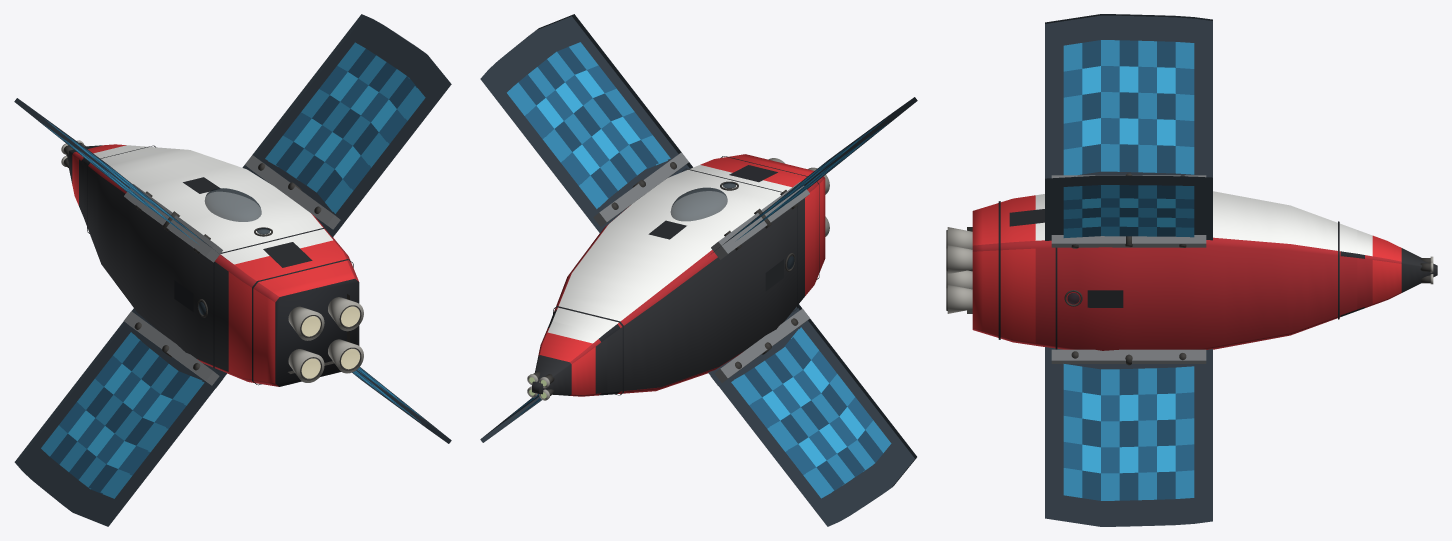
Rendered from Ship_Crosspanel_2.glb.
3 views of the same model, side by side, from view 1: azimuth 30°, elevation 25°; view 2: azimuth 150°, elevation 25°; view 3: azimuth 270°, elevation 25° (orthographic). The views are drawn at different scales.
Parts seen in each view (by area): view 1: Fuselage_SquareBody, SolarPanelWing_TopRightRidge_RectangularPhotovoltaicGrid, SolarPanelWing_LowerLeftRidge_RectangularPhotovoltaicGrid, SolarPanelWing_TopLeftRidge_RectangularPhotovoltaicGrid, SolarPanelWing_TopLeftRidge_RootHingeClamp, Canopy_DorsalLowSquareBubble, SolarPanelWing_LowerLeftRidge_RootHingeClamp, SolarPanelWing_TopRightRidge_RootHingeClamp, EngineEmitter, Nose_SquareTaperedForwardSection, SolarPanelWing_LowerRightRidge_RectangularPhotovoltaicGrid, HullAccessPanel_TopAft (+4 smaller); view 2: Fuselage_SquareBody, SolarPanelWing_TopRightRidge_RectangularPhotovoltaicGrid, SolarPanelWing_LowerLeftRidge_RectangularPhotovoltaicGrid, Nose_SquareTaperedForwardSection, SolarPanelWing_TopLeftRidge_RectangularPhotovoltaicGrid, SolarPanelWing_TopLeftRidge_RootHingeClamp, Canopy_DorsalLowSquareBubble, SolarPanelWing_TopRightRidge_RootHingeClamp, SolarPanelWing_LowerLeftRidge_RootHingeClamp, SolarPanelWing_LowerRightRidge_RectangularPhotovoltaicGrid; view 3: Fuselage_SquareBody, SolarPanelWing_LowerRightRidge_RectangularPhotovoltaicGrid, SolarPanelWing_TopLeftRidge_RectangularPhotovoltaicGrid, SolarPanelWing_TopRightRidge_RectangularPhotovoltaicGrid, Nose_SquareTaperedForwardSection, SolarPanelWing_LowerRightRidge_RootHingeClamp, SolarPanelWing_TopRightRidge_RootHingeClamp, HullAccessPanel_StarboardMid, EngineBell_UpperRight_TaperedSquareClusterNozzle, EngineBell_LowerRight_TaperedSquareClusterNozzle.
Boxes of the visible parts, x1=… form: Fuselage_SquareBody: x1=83, y1=146, x2=359, y2=386; SolarPanelWing_TopRightRidge_RectangularPhotovoltaicGrid: x1=242, y1=14, x2=451, y2=237; SolarPanelWing_LowerLeftRidge_RectangularPhotovoltaicGrid: x1=14, y1=308, x2=226, y2=526; SolarPanelWing_TopLeftRidge_RectangularPhotovoltaicGrid: x1=14, y1=98, x2=225, y2=258; SolarPanelWing_TopLeftRidge_RootHingeClamp: x1=124, y1=184, x2=222, y2=262; Canopy_DorsalLowSquareBubble: x1=205, y1=188, x2=261, y2=221; SolarPanelWing_LowerLeftRidge_RootHingeClamp: x1=124, y1=311, x2=222, y2=387; SolarPanelWing_TopRightRidge_RootHingeClamp: x1=245, y1=155, x2=340, y2=229; EngineEmitter: x1=301, y1=306, x2=359, y2=378; Nose_SquareTaperedForwardSection: x1=66, y1=144, x2=137, y2=216; SolarPanelWing_LowerRightRidge_RectangularPhotovoltaicGrid: x1=352, y1=367, x2=451, y2=443; HullAccessPanel_TopAft: x1=263, y1=242, x2=312, y2=267; Fuselage_SquareBody: x1=550, y1=154, x2=825, y2=394; SolarPanelWing_TopRightRidge_RectangularPhotovoltaicGrid: x1=480, y1=14, x2=692, y2=232; SolarPanelWing_LowerLeftRidge_RectangularPhotovoltaicGrid: x1=708, y1=304, x2=916, y2=526; Nose_SquareTaperedForwardSection: x1=532, y1=321, x2=607, y2=396; SolarPanelWing_TopLeftRidge_RectangularPhotovoltaicGrid: x1=711, y1=97, x2=917, y2=253; SolarPanelWing_TopLeftRidge_RootHingeClamp: x1=711, y1=181, x2=809, y2=259; Canopy_DorsalLowSquareBubble: x1=670, y1=187, x2=727, y2=221; SolarPanelWing_TopRightRidge_RootHingeClamp: x1=593, y1=152, x2=688, y2=226; SolarPanelWing_LowerLeftRidge_RootHingeClamp: x1=711, y1=308, x2=809, y2=385; SolarPanelWing_LowerRightRidge_RectangularPhotovoltaicGrid: x1=480, y1=394, x2=541, y2=442; Fuselage_SquareBody: x1=972, y1=191, x2=1357, y2=350; SolarPanelWing_LowerRightRidge_RectangularPhotovoltaicGrid: x1=1045, y1=347, x2=1212, y2=526; SolarPanelWing_TopLeftRidge_RectangularPhotovoltaicGrid: x1=1045, y1=14, x2=1212, y2=178; SolarPanelWing_TopRightRidge_RectangularPhotovoltaicGrid: x1=1045, y1=175, x2=1212, y2=240; Nose_SquareTaperedForwardSection: x1=1357, y1=230, x2=1437, y2=310; SolarPanelWing_LowerRightRidge_RootHingeClamp: x1=1051, y1=349, x2=1206, y2=363; SolarPanelWing_TopRightRidge_RootHingeClamp: x1=1051, y1=235, x2=1206, y2=247; HullAccessPanel_StarboardMid: x1=1087, y1=290, x2=1123, y2=307; EngineBell_UpperRight_TaperedSquareClusterNozzle: x1=947, y1=245, x2=972, y2=274; EngineBell_LowerRight_TaperedSquareClusterNozzle: x1=947, y1=285, x2=972, y2=313.
Size of the model in its own units: 5.73 by 5.73 by 7.25.
